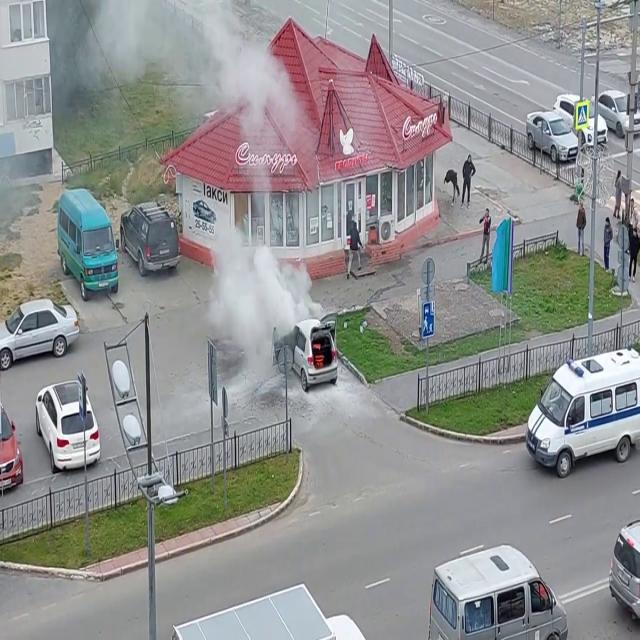Smoke: (97, 0, 310, 175), (205, 200, 312, 374)
